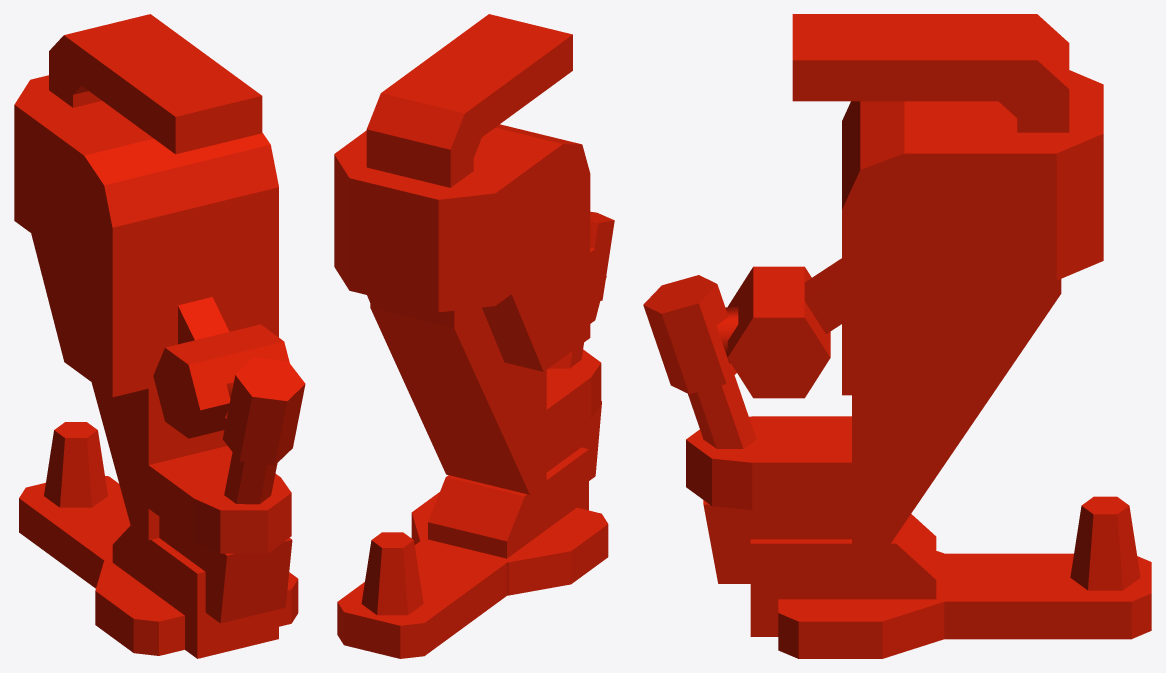
File: env_mechanicalfiller_02_col.fbx
3 renders of one model, left to right at view 1: azimuth 30°, elevation 25°; view 2: azimuth 150°, elevation 25°; view 3: azimuth 270°, elevation 25°, orthographic. The views are drawn at different scales.
Parts seen in each view (by area): view 1: Cube.003, Cube.015, Cube.009, Cube.018, Cube.012, Cube.006, Cube.008, Cube.011, Cube.004, Cube.007, Cube.005, Cube.001 (+4 smaller); view 2: Cube.018, Cube.008, Cube.003, Cube.015, Cube.004, Cube.006, Cube.005, Cube.001, Cube.017, Cube.016, Cube.009, Cube.007 (+2 smaller); view 3: Cube.003, Cube.018, Cube.015, Cube.008, Cube.004, Cube.009, Cube.006, Cube.012, Cube.005, Cube.011, Cube.007, Cube.001 (+4 smaller).
Boxes of the visible parts, x1=… form: Cube.003: x1=31, y1=132, x2=278, y2=397; Cube.015: x1=64, y1=14, x2=262, y2=154; Cube.009: x1=148, y1=446, x2=291, y2=553; Cube.018: x1=14, y1=75, x2=153, y2=232; Cube.012: x1=153, y1=324, x2=289, y2=438; Cube.006: x1=112, y1=525, x2=278, y2=658; Cube.008: x1=91, y1=382, x2=227, y2=540; Cube.011: x1=222, y1=357, x2=305, y2=465; Cube.004: x1=19, y1=476, x2=130, y2=588; Cube.007: x1=159, y1=517, x2=292, y2=623; Cube.005: x1=95, y1=559, x2=298, y2=655; Cube.001: x1=44, y1=422, x2=107, y2=507; Cube.018: x1=334, y1=127, x2=562, y2=312; Cube.008: x1=370, y1=296, x2=546, y2=494; Cube.003: x1=367, y1=124, x2=590, y2=371; Cube.015: x1=381, y1=14, x2=572, y2=136; Cube.004: x1=337, y1=541, x2=507, y2=658; Cube.006: x1=428, y1=447, x2=588, y2=558; Cube.005: x1=411, y1=492, x2=608, y2=595; Cube.001: x1=361, y1=532, x2=423, y2=615; Cube.017: x1=367, y1=93, x2=481, y2=158; Cube.016: x1=366, y1=129, x2=473, y2=187; Cube.009: x1=546, y1=349, x2=601, y2=451; Cube.007: x1=546, y1=401, x2=601, y2=480; Cube.003: x1=842, y1=101, x2=1019, y2=395; Cube.018: x1=904, y1=70, x2=1103, y2=280; Cube.015: x1=792, y1=14, x2=1037, y2=101; Cube.008: x1=852, y1=279, x2=1061, y2=544; Cube.004: x1=944, y1=553, x2=1151, y2=639; Cube.009: x1=686, y1=416, x2=851, y2=510; Cube.006: x1=750, y1=514, x2=936, y2=636; Cube.012: x1=727, y1=266, x2=830, y2=398; Cube.005: x1=778, y1=551, x2=944, y2=658; Cube.011: x1=643, y1=275, x2=736, y2=394; Cube.007: x1=703, y1=500, x2=851, y2=583; Cube.001: x1=1070, y1=496, x2=1140, y2=590.
Bounding box in the file's own units: 23.6 × 71.54 × 57.05.
